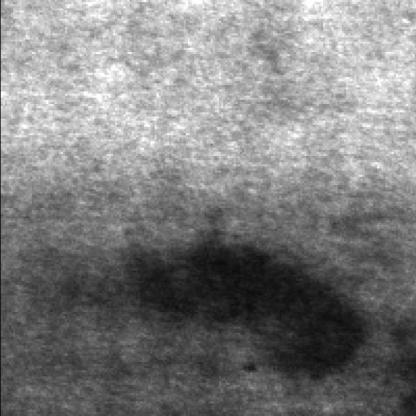patches: (112, 244, 358, 376)
